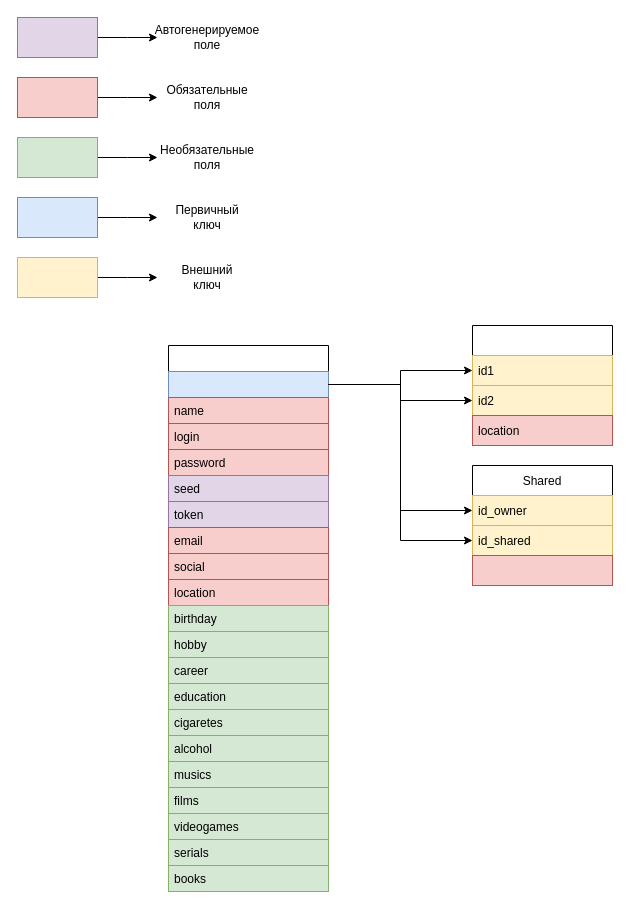
Some shapes in this 630 by 912 pixel diagram are drawn without their labels. Here are the shapes that lost their labels. From the top down, the box of each, then its label:
(168, 370, 328, 398): id
(472, 324, 612, 446): Chats
(472, 554, 612, 586): field
(168, 344, 328, 892): Users
